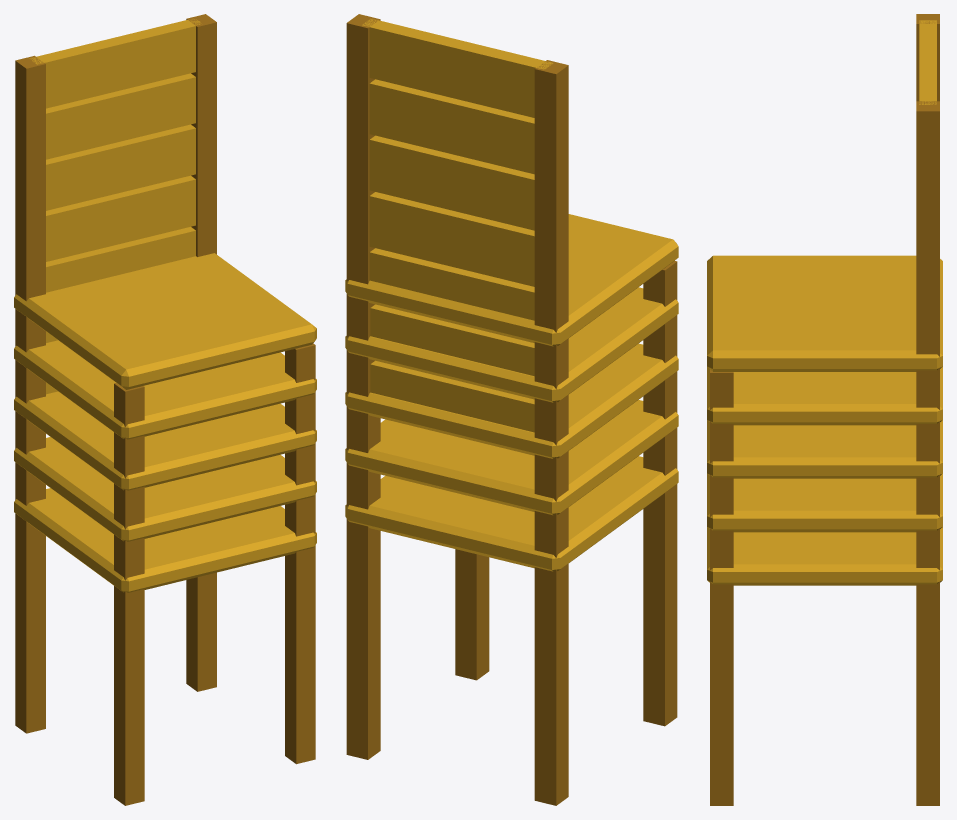
The model's file is chair_stack.glb.
3 views of the same model, side by side, from view 1: azimuth 30°, elevation 25°; view 2: azimuth 150°, elevation 25°; view 3: azimuth 270°, elevation 25° (orthographic). The views are drawn at different scales.
Visible parts, largest first — view 1: chair_stack; view 2: chair_stack; view 3: chair_stack.
Part boxes in pixels (x1,y1,x2,y2): chair_stack: [14, 14, 316, 805]; chair_stack: [345, 14, 678, 805]; chair_stack: [707, 14, 942, 805].
Size of the model in its own units: 0.4 by 1.3 by 0.4.
